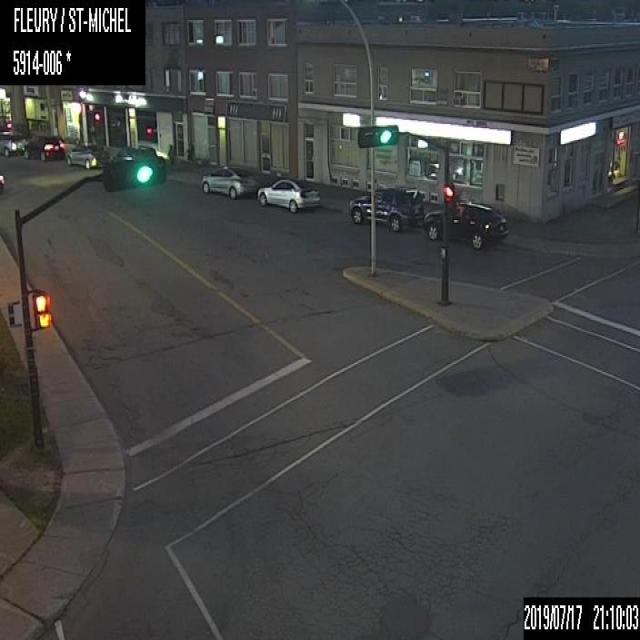vehicle: (424, 200, 508, 250), (348, 184, 422, 232), (254, 172, 321, 212), (202, 165, 258, 198), (20, 135, 66, 163), (66, 146, 105, 170), (111, 143, 155, 164), (0, 130, 27, 158), (0, 170, 4, 193)
